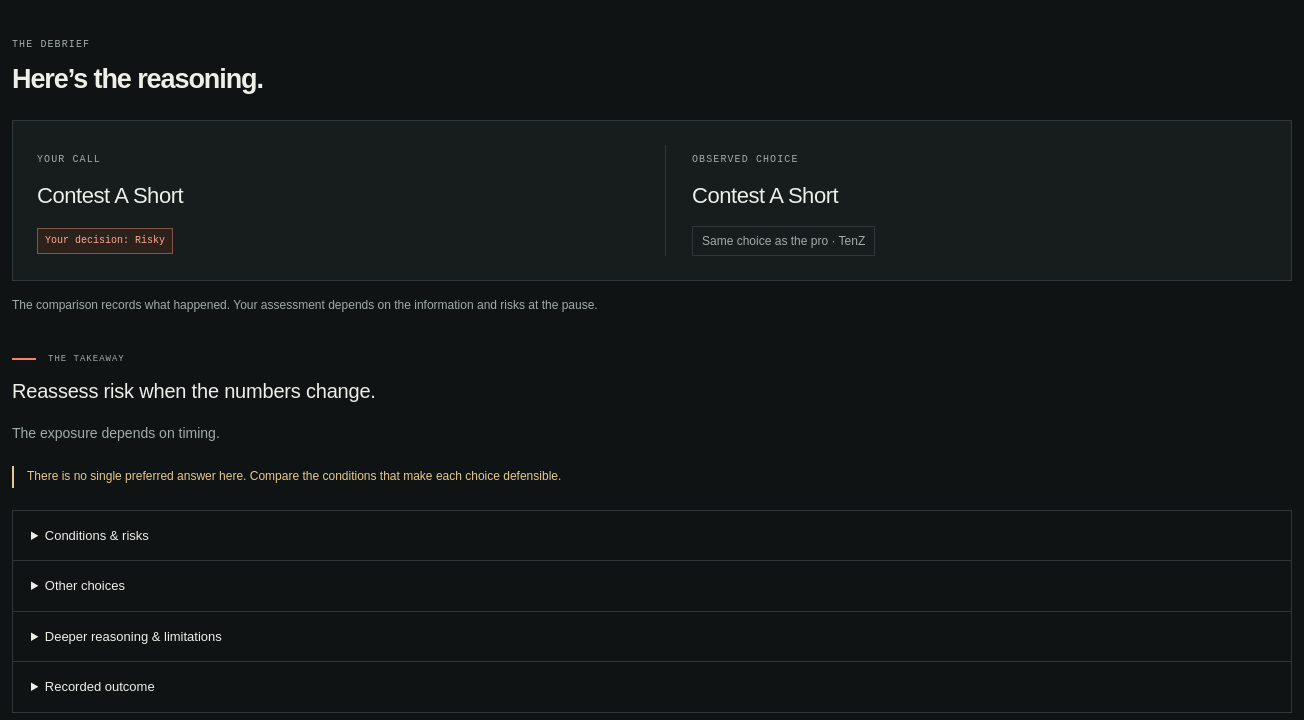
it: conditional pro feedback › shows a matched choice as risky without presenting the result as correctness
Expected: the text "Same choice as the pro · TenZ" is shown, [692,226,875,256]
Expected: the text "Your decision: Risky" is shown, [37,228,173,254]
Click the heading "Recorded outcome" at (100, 687), box [45,679,155,694]
(page scrolled)
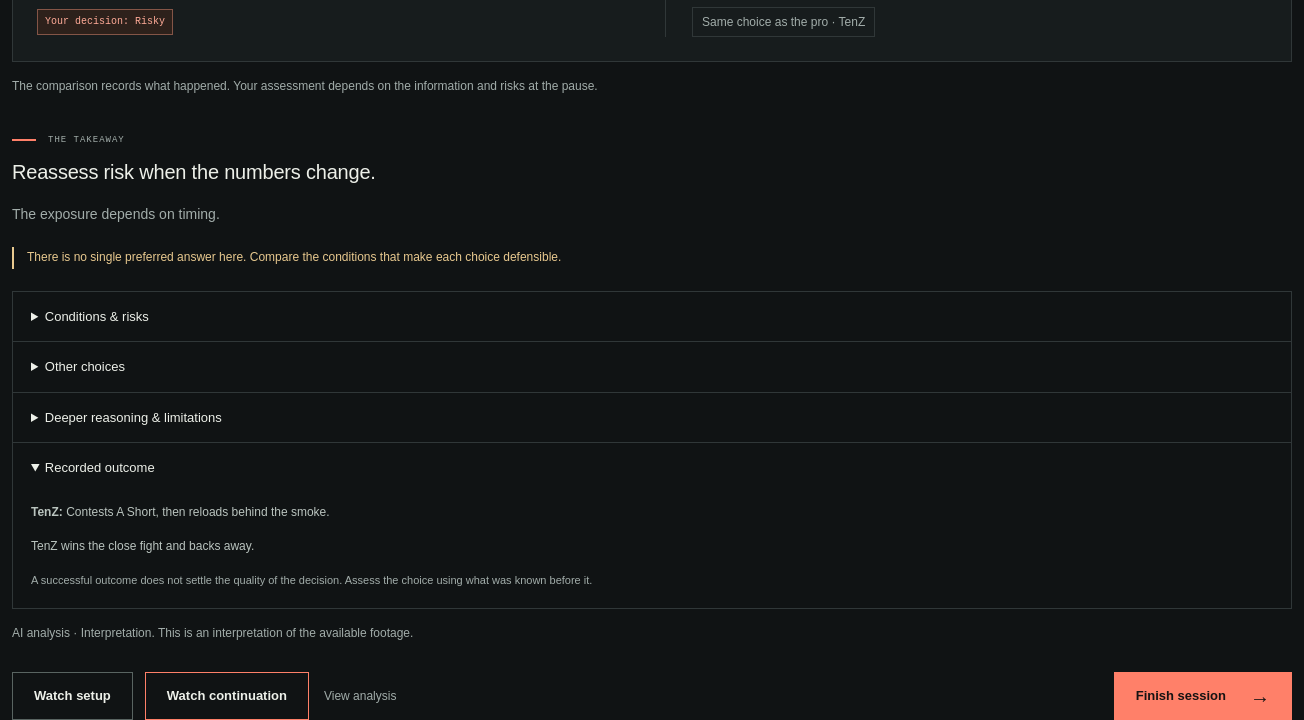
Expected: the text "A successful outcome does not settle the quality" is shown, [31,574,592,586]
